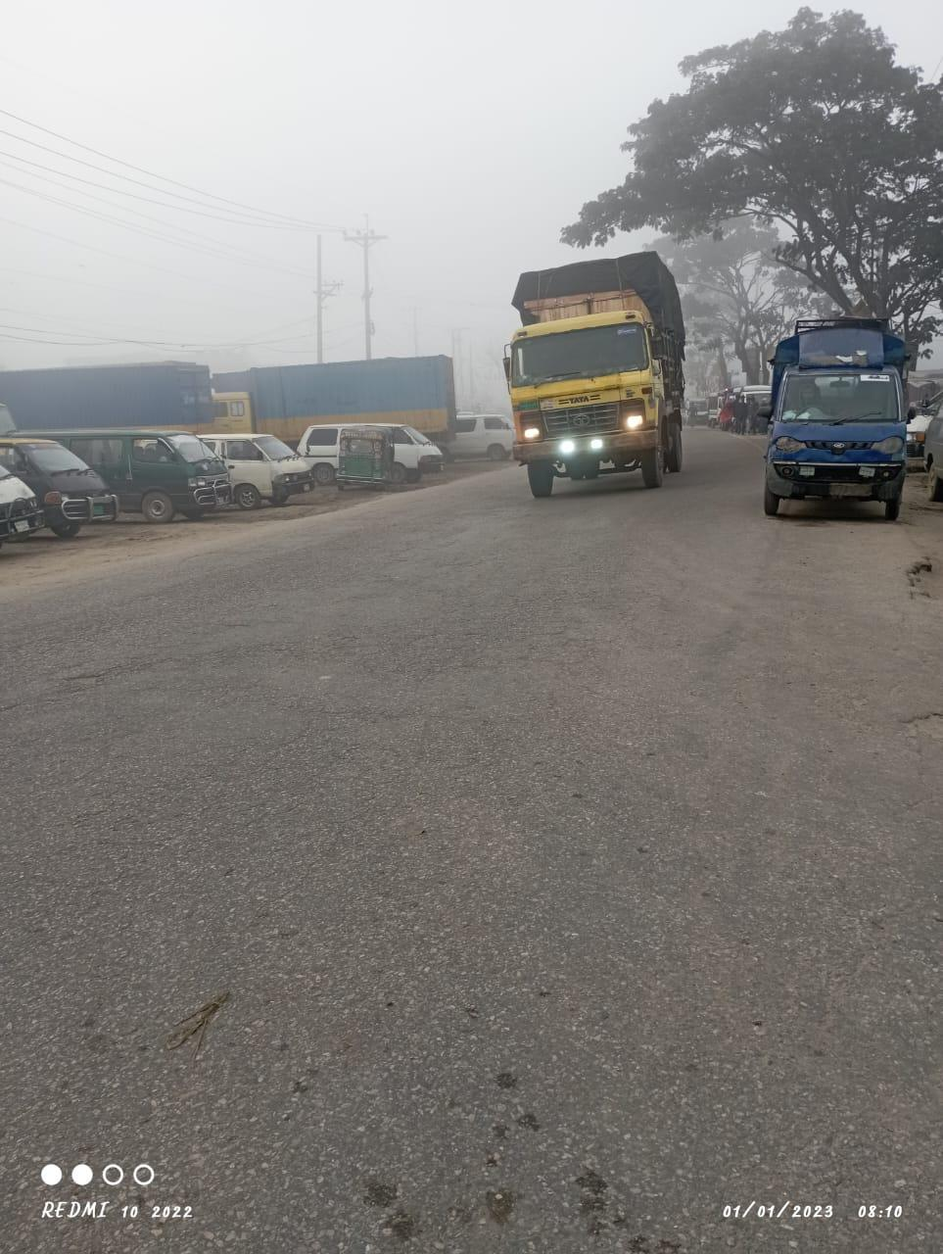Car: (60, 414, 240, 536), (8, 422, 122, 544), (216, 410, 317, 513)
Truck: (495, 244, 689, 521), (748, 306, 917, 533), (4, 353, 235, 467), (229, 353, 463, 447)
